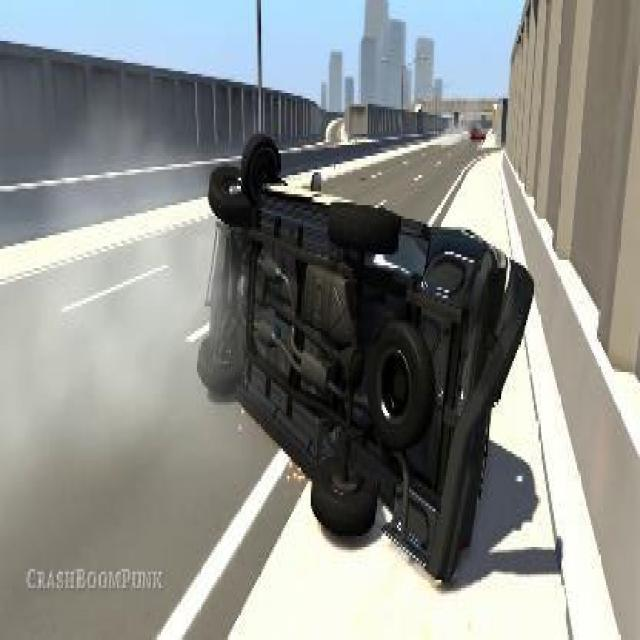accident: (188, 110, 534, 582)
